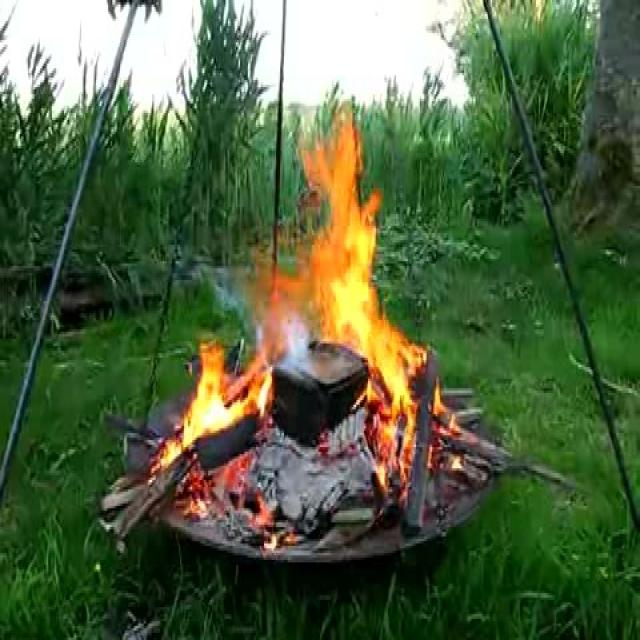fire: (302, 138, 416, 432), (180, 323, 264, 439)
